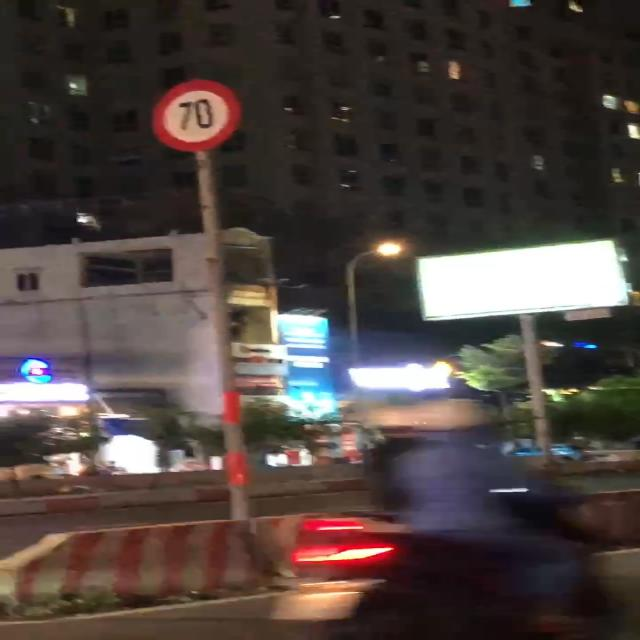Bien bao toc do toi da cho phep: (138, 74, 254, 154)
